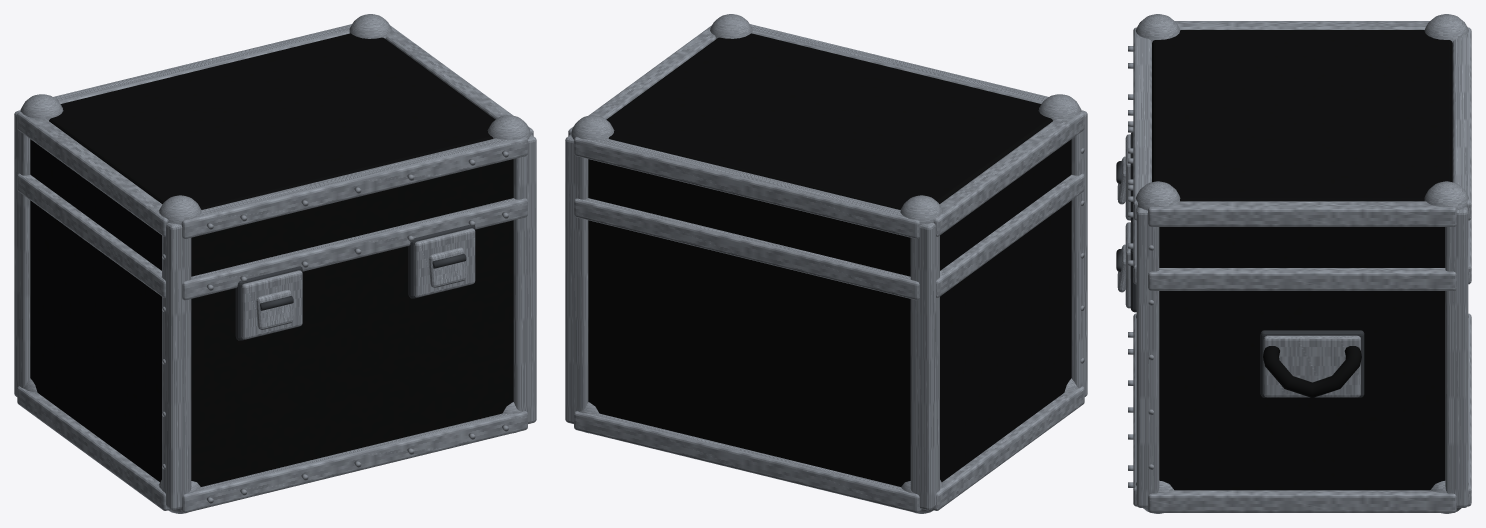
The model's file is HomebaseFlightCaseBlack_LOD00.gltf.
3 renders of one model, left to right at view 1: azimuth 30°, elevation 25°; view 2: azimuth 150°, elevation 25°; view 3: azimuth 270°, elevation 25°, orthographic. The views are drawn at different scales.
Parts seen in each view (by area): view 1: FlightCaseBlackPanels, FlightCaseBlackAluminiumFrame, FlightCaseBlackHardware; view 2: FlightCaseBlackPanels, FlightCaseBlackAluminiumFrame; view 3: FlightCaseBlackPanels, FlightCaseBlackAluminiumFrame, FlightCaseBlackHardware.
Part boxes in pixels (x1,y1,x2,y2): FlightCaseBlackPanels: (30,33,513,486); FlightCaseBlackAluminiumFrame: (14,14,536,513); FlightCaseBlackHardware: (162,150,508,503); FlightCaseBlackPanels: (588,33,1071,486); FlightCaseBlackAluminiumFrame: (565,14,1087,513); FlightCaseBlackPanels: (1152,30,1452,490); FlightCaseBlackAluminiumFrame: (1133,14,1471,513); FlightCaseBlackHardware: (1116,46,1364,487).
Bounding box in the file's own units: 0.7272 × 0.54 × 0.529.
Materials: 4 (3 with a texture image).
